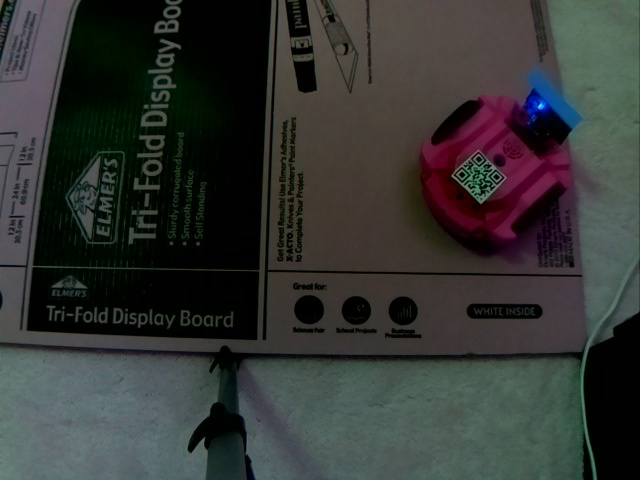chassis: (419, 68, 582, 251)
qr: (449, 149, 507, 207)
